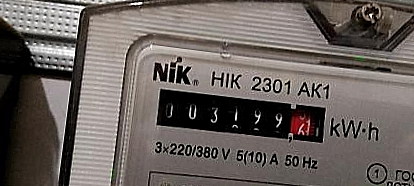0: (186, 101, 199, 122), (163, 99, 174, 118)
1: (230, 104, 241, 123)
3: (207, 104, 220, 125)
6: (295, 120, 306, 135)
9: (250, 106, 263, 127), (272, 110, 284, 130)
screen: (147, 77, 334, 153)
